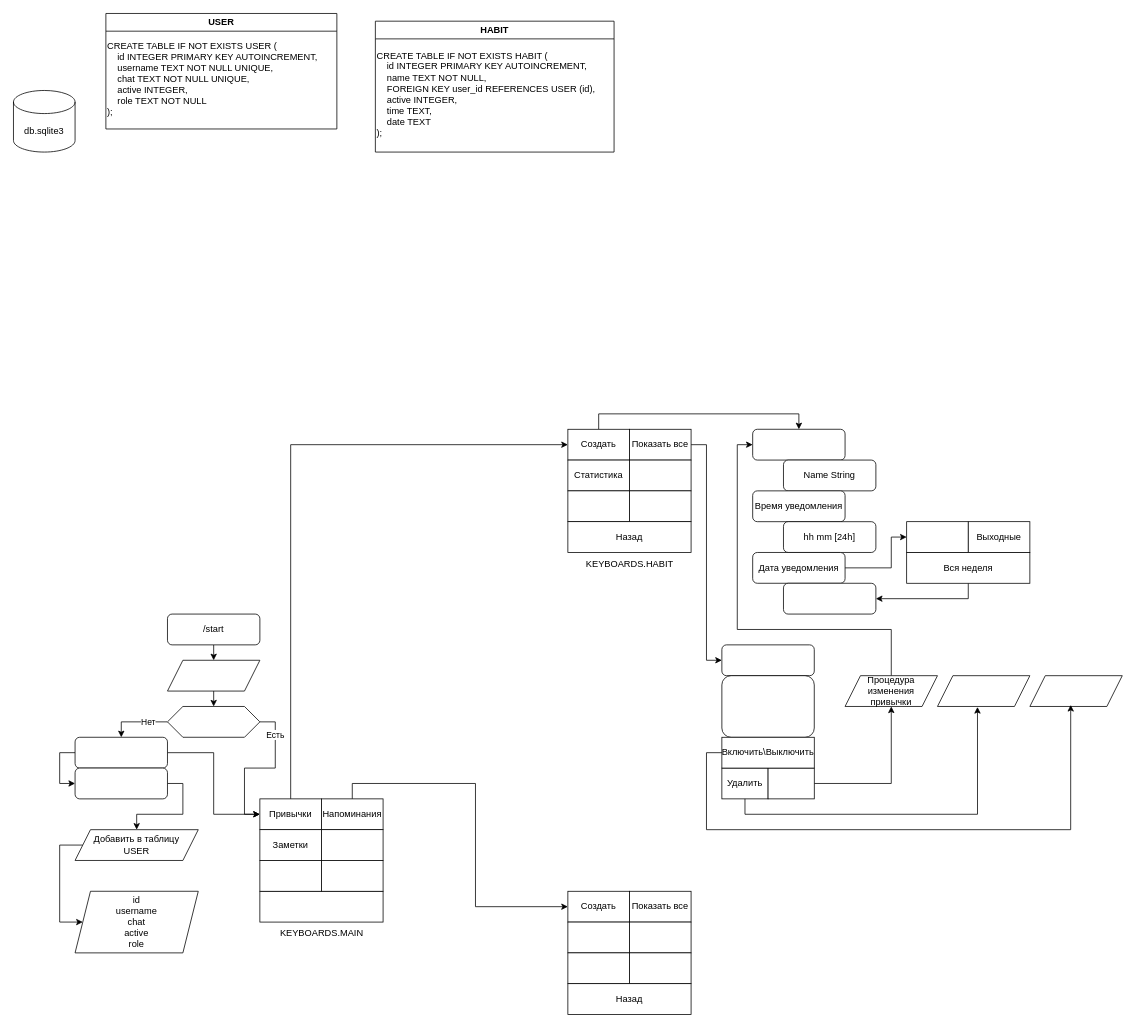
Some shapes in this 1136 by 1028 pixel diagram are drawn without their labels. Here are the shapes that lost their labels. From the top down, the centre of each, then its label:
At point (798, 444): "Введите название привычки".
At point (937, 536): "Будни".
At point (829, 598): "Выбор из кнопок".
At point (213, 675): "Проверка WhiteList".
At point (767, 660): "Вот список ваших привычек".
At point (767, 706): "id привычки Название привычки. Время привычки. Дата привычки.".
At point (983, 690): "Удалить привычку из базы".
At point (1075, 690): "Включить Выключить".
At point (213, 721): "Пользователь есть в базе".
At point (120, 752): "Добро пожаловать, ник!".
At point (120, 783): "id, username, chat_id".
At point (790, 783): "Изменить".
